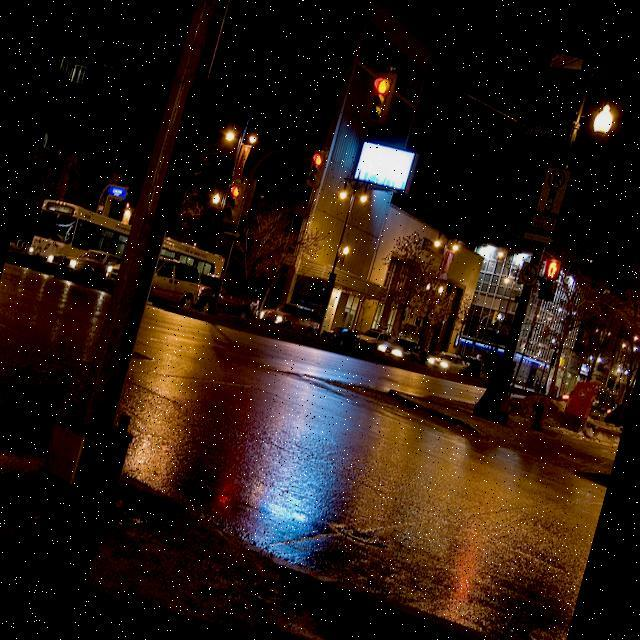fire_hydrant: (529, 396, 549, 432)
